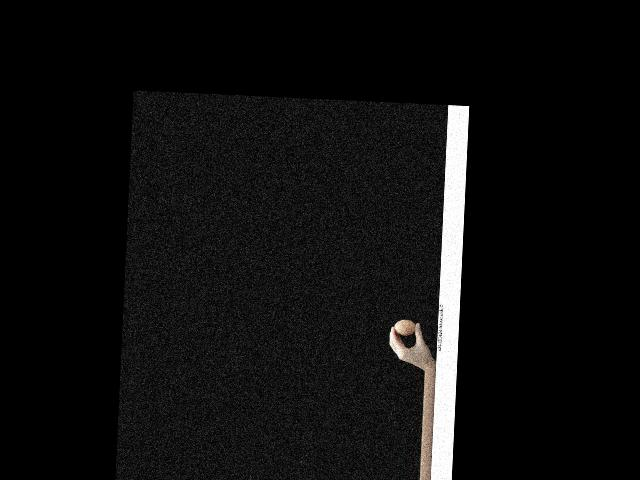egg: (393, 319, 415, 335)
